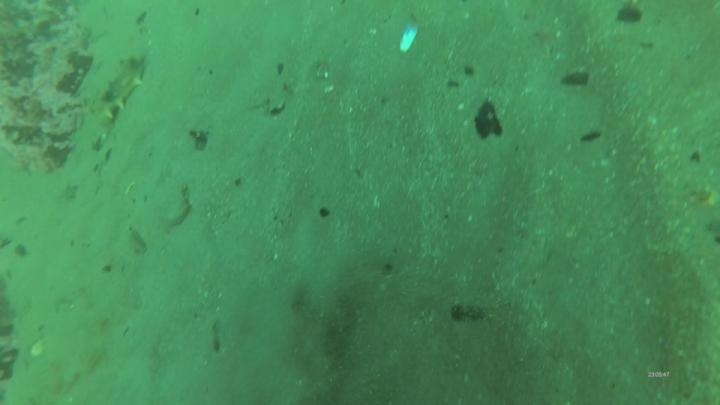holothurian: (89, 54, 153, 128)
